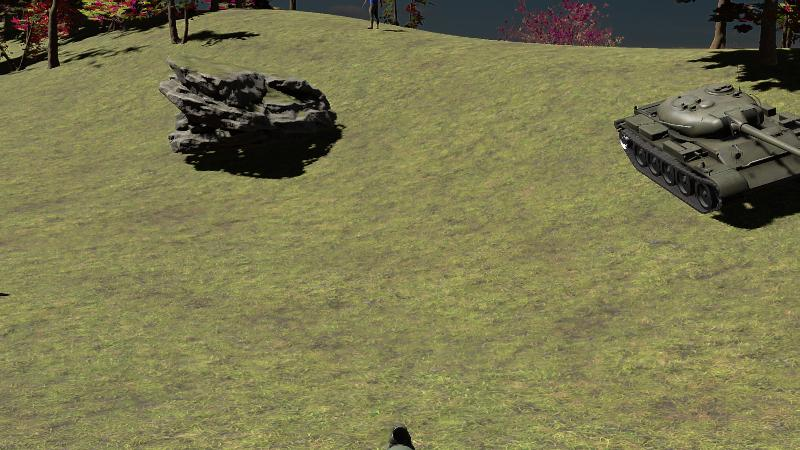Tank: (614, 85, 800, 218)
